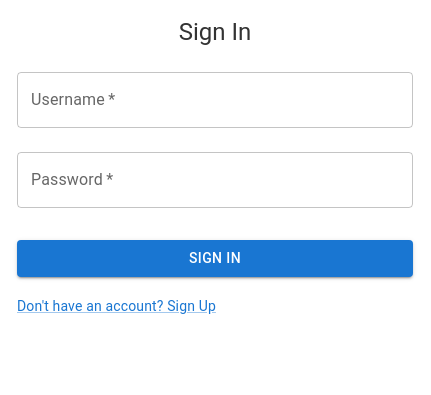
Test: LoginPage Integration Test › should display an error message for invalid credentials
Type "wronguser" into the field labelled "Username *" at [215, 100], box [17,72,413,128]
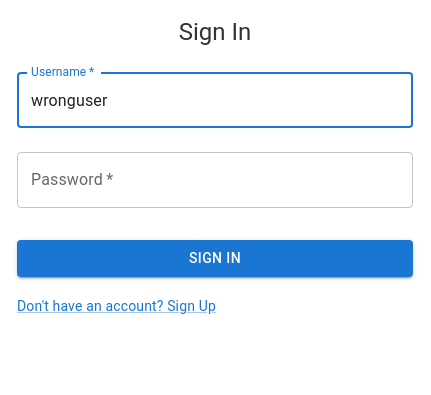
Type "wrongpassword" into the password field labelled "Password *" at [215, 180], box [17,152,413,208]
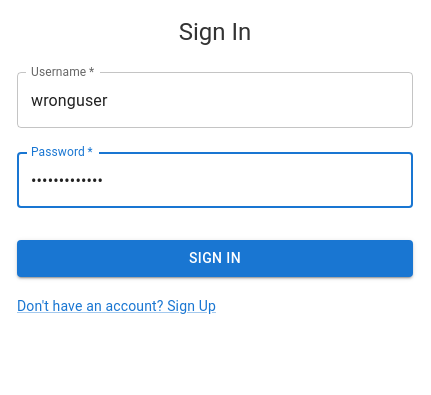
Click the button "Sign In" at [215, 258], box [17,240,413,276]
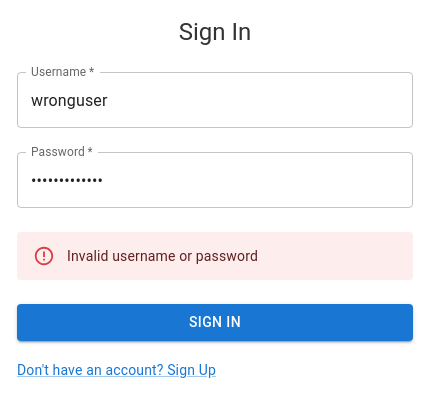
Expected: the heading "Sign In" is shown, [179,16,251,48]
Result: the text "Invalid username or password" is shown at [67,248,258,264]
